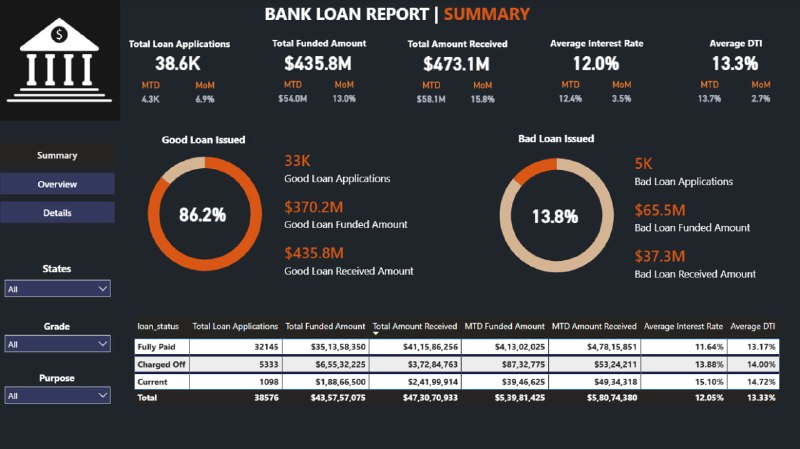

What the dashboard file says about the page in this screenshot:
{"tool":"powerbi","page":{"name":"Summary","canvas":[1280,720],"ordinal":0},"visuals":[{"type":"shape","box":[0,55.5,189.4,664.7],"z":0},{"type":"shape","box":[0,0,1280.3,55],"z":1000},{"type":"card","fields":{"Values":["financial_loan.Total Funded Amount"]},"box":[415.9,74.2,188.2,51.9],"z":1000,"group":"g1"},{"type":"card","fields":{"Values":["financial_loan.Average Interest Rate"]},"box":[859.3,74.2,188.2,51.9],"z":1000,"group":"g7"},{"type":"card","fields":{"Values":["financial_loan.Average DTI"]},"box":[1081,74.2,188.2,51.9],"z":1000,"group":"g8"},{"type":"card","fields":{"Values":["financial_loan.Total Loan Applications"]},"box":[189.4,74.9,194.2,53.1],"z":1000,"group":"g2"},{"type":"card","fields":{"Values":["financial_loan.Total Amount Received"]},"box":[637.6,75.4,188.2,51.9],"z":1000,"group":"g6"},{"type":"textbox","box":[418.5,55.5,187,30.2],"z":2000,"group":"g1"},{"type":"textbox","box":[861.9,55.5,187,30.2],"z":2000,"group":"g7"},{"type":"textbox","box":[1083.6,55.5,187,30.2],"z":2000,"group":"g8"},{"type":"textbox","box":[195.3,56.7,187,30.2],"z":2000,"group":"g2"},{"type":"textbox","box":[640.2,56.7,187,30.2],"z":2000,"group":"g6"},{"type":"card","fields":{"Values":["financial_loan.Bad Loan Percentage"]},"box":[807.1,320.9,161.7,49.5],"z":2000},{"type":"textbox","box":[0,413.8,187,41],"z":2000,"group":"g9"},{"type":"textbox","box":[0,506.7,187,35],"z":2000,"group":"g3"},{"type":"textbox","box":[0,588.7,187,37.4],"z":2000,"group":"g10"},{"type":"card","title":"MTD","fields":{"Values":["financial_loan.MTD Funded Amount"]},"box":[435,127.3,68.8,41],"z":3000,"group":"g1"},{"type":"card","title":"MTD","fields":{"Values":["financial_loan.MTD Avg Int Rate"]},"box":[878.4,127.3,68.8,41],"z":3000,"group":"g7"},{"type":"card","title":"MTD","fields":{"Values":["financial_loan.MTD Avg DTI"]},"box":[1100.1,127.3,68.8,41],"z":3000,"group":"g8"},{"type":"card","title":"MTD","fields":{"Values":["financial_loan.MTD Loan Applications"]},"box":[208.7,128.5,68.8,41],"z":3000,"group":"g2"},{"type":"card","title":"MTD","fields":{"Values":["financial_loan.MTD Amount Received"]},"box":[656.7,128.5,68.8,41],"z":3000,"group":"g6"},{"type":"card","fields":{"Values":["financial_loan.Good Loan Percentage"]},"box":[258.2,320.9,136.3,42.2],"z":3000},{"type":"card","title":"MoM","fields":{"Values":["financial_loan.MoM Funded Amount"]},"box":[516.8,127.3,68.8,41],"z":4000,"group":"g1"},{"type":"card","title":"MoM","fields":{"Values":["financial_loan.MoM Avg Int Rate"]},"box":[960.2,127.3,68.8,41],"z":4000,"group":"g7"},{"type":"card","title":"MoM","fields":{"Values":["financial_loan.MoM Avg DTI"]},"box":[1181.9,127.3,68.8,41],"z":4000,"group":"g8"},{"type":"card","title":"MoM","fields":{"Values":["financial_loan.Mom Loan Application"]},"box":[295.6,128.5,68.8,41],"z":4000,"group":"g2"},{"type":"card","title":"MoM","fields":{"Values":["financial_loan.MoM Amount Received"]},"box":[738.5,128.5,68.8,41],"z":4000,"group":"g6"},{"type":"textbox","box":[796.3,206.3,187,36.2],"z":4000},{"type":"group","id":"g1","title":"Group 3","box":[415.9,55.5,189.6,112.8],"z":4001,"group":"g5"},{"type":"group","id":"g2","title":"Group 2","box":[189.4,56.7,194.2,112.8],"z":4005,"group":"g4"},{"type":"textbox","box":[234,208.7,187,39.8],"z":5000},{"type":"group","id":"g3","title":"Group 2","box":[0,506.7,187,37.4],"z":6000},{"type":"textbox","box":[394.5,0,483.8,55.5],"z":7000},{"type":"group","id":"g4","title":"Group 1","box":[189.4,56.7,194.2,112.8],"z":8000},{"type":"group","id":"g5","title":"Group 2","box":[415.9,55.5,189.4,113.4],"z":9000},{"type":"group","id":"g6","title":"Group 3","box":[637.6,56.7,189.4,113.4],"z":10000},{"type":"group","id":"g7","title":"Group 3","box":[859.3,55.5,189.4,113.4],"z":11000},{"type":"shape","box":[195.4,202.7,518.8,279.9],"z":12000},{"type":"group","id":"g8","title":"Group 3","box":[1081,55.5,189.4,113.4],"z":13000},{"type":"shape","box":[751.6,202.7,518.8,279.9],"z":14000},{"type":"donutChart","fields":{"Category":["financial_loan.Good vs Bad Loan"],"Y":["financial_loan.Total Loan Applications"]},"box":[200.3,224.4,259.4,237.7],"z":15000},{"type":"cardVisual","fields":{"Data":["financial_loan.Good Loan Applications","financial_loan.Good Loan Funded Amount","financial_loan.Good Loan Received Amount"]},"box":[435.5,224.4,267.8,237.7],"z":16000},{"type":"donutChart","fields":{"Category":["financial_loan.Good vs Bad Loan"],"Y":["financial_loan.Total Loan Applications"]},"box":[761.3,226.8,259.4,237.7],"z":17000},{"type":"cardVisual","fields":{"Data":["financial_loan.Bad Loan Applications","financial_loan.Bad Loan Funded Amount","financial_loan.Bad Loan Received Amount"]},"box":[994.1,229.2,267.8,237.7],"z":18000},{"type":"shape","box":[195.4,482.6,1066.5,234],"z":19000},{"type":"tableEx","fields":{"Values":["financial_loan.loan_status","financial_loan.Total Loan Applications","financial_loan.Total Funded Amount","financial_loan.Total Amount Received","financial_loan.MTD Funded Amount","financial_loan.MTD Amount Received","financial_loan.Average Interest Rate","financial_loan.Average DTI"]},"box":[211.1,504.3,1040,190.6],"z":20000},{"type":"slicer","fields":{"Values":["financial_loan.address_state"]},"box":[0,437.9,189.4,48.3],"z":21000},{"type":"group","id":"g9","title":"Group 2","box":[0,413.8,187,41],"z":22000},{"type":"group","id":"g10","title":"Group 2","box":[0,588.7,187,37.4],"z":23000},{"type":"slicer","fields":{"Values":["financial_loan.grade"]},"box":[0,526,189.4,48.3],"z":24000},{"type":"slicer","fields":{"Values":["financial_loan.purpose"]},"box":[0,608,189.4,48.3],"z":25000},{"type":"pageNavigator","box":[2.4,230.4,184.6,129.1],"z":26000},{"type":"image","box":[0,0,195.4,195.4],"z":27000}]}

Visuals, with their boxes in screenshot pixels (x1, y1, x2, y2), scaled from the page's 1280x720 canvas onto the 800x449 screenshot:
shape: <region>0, 35, 118, 448</region>
shape: <region>0, 0, 799, 34</region>
card - financial_loan.Total Funded Amount: <region>260, 46, 378, 79</region>
card - financial_loan.Average Interest Rate: <region>537, 46, 655, 79</region>
card - financial_loan.Average DTI: <region>676, 46, 793, 79</region>
card - financial_loan.Total Loan Applications: <region>118, 47, 240, 80</region>
card - financial_loan.Total Amount Received: <region>398, 47, 516, 79</region>
textbox: <region>262, 35, 378, 53</region>
textbox: <region>539, 35, 656, 53</region>
textbox: <region>677, 35, 794, 53</region>
textbox: <region>122, 35, 239, 54</region>
textbox: <region>400, 35, 517, 54</region>
card - financial_loan.Bad Loan Percentage: <region>504, 200, 606, 231</region>
textbox: <region>0, 258, 117, 284</region>
textbox: <region>0, 316, 117, 338</region>
textbox: <region>0, 367, 117, 390</region>
"MTD" card: <region>272, 79, 315, 105</region>
"MTD" card: <region>549, 79, 592, 105</region>
"MTD" card: <region>688, 79, 731, 105</region>
"MTD" card: <region>130, 80, 173, 106</region>
"MTD" card: <region>410, 80, 453, 106</region>
card - financial_loan.Good Loan Percentage: <region>161, 200, 247, 226</region>
"MoM" card: <region>323, 79, 366, 105</region>
"MoM" card: <region>600, 79, 643, 105</region>
"MoM" card: <region>739, 79, 782, 105</region>
"MoM" card: <region>185, 80, 228, 106</region>
"MoM" card: <region>462, 80, 505, 106</region>
textbox: <region>498, 129, 615, 151</region>
"Group 3" group: <region>260, 35, 378, 105</region>
"Group 2" group: <region>118, 35, 240, 106</region>
textbox: <region>146, 130, 263, 155</region>
"Group 2" group: <region>0, 316, 117, 339</region>
textbox: <region>247, 0, 549, 35</region>
"Group 1" group: <region>118, 35, 240, 106</region>
"Group 2" group: <region>260, 35, 378, 105</region>
"Group 3" group: <region>398, 35, 517, 106</region>
"Group 3" group: <region>537, 35, 655, 105</region>
shape: <region>122, 126, 446, 301</region>
"Group 3" group: <region>676, 35, 794, 105</region>
shape: <region>470, 126, 794, 301</region>
donutChart - financial_loan.Good vs Bad Loan x financial_loan.Total Loan Applications: <region>125, 140, 287, 288</region>
cardVisual - financial_loan.Good Loan Applications x financial_loan.Good Loan Funded Amount: <region>272, 140, 440, 288</region>
donutChart - financial_loan.Good vs Bad Loan x financial_loan.Total Loan Applications: <region>476, 141, 638, 290</region>
cardVisual - financial_loan.Bad Loan Applications x financial_loan.Bad Loan Funded Amount: <region>621, 143, 789, 291</region>
shape: <region>122, 301, 789, 447</region>
tableEx - financial_loan.loan_status x financial_loan.Total Loan Applications: <region>132, 314, 782, 433</region>
slicer - financial_loan.address_state: <region>0, 273, 118, 303</region>
"Group 2" group: <region>0, 258, 117, 284</region>
"Group 2" group: <region>0, 367, 117, 390</region>
slicer - financial_loan.grade: <region>0, 328, 118, 358</region>
slicer - financial_loan.purpose: <region>0, 379, 118, 409</region>
pageNavigator: <region>2, 144, 117, 224</region>
image: <region>0, 0, 122, 122</region>
